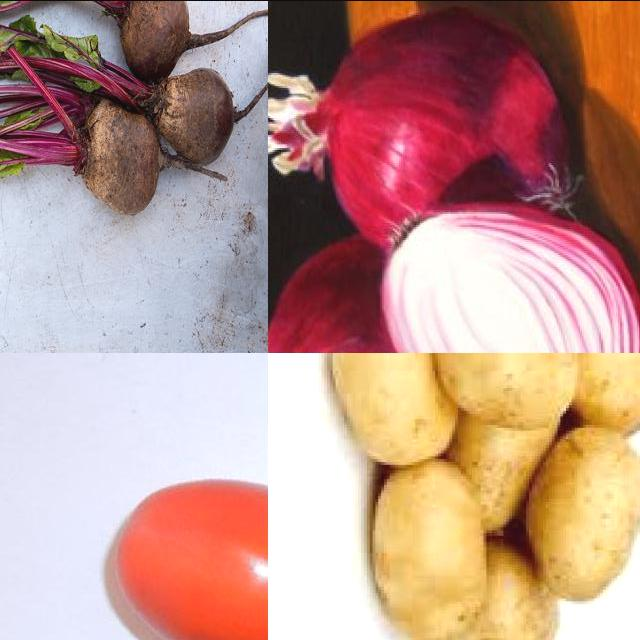beet: (84, 96, 160, 204), (163, 67, 239, 169), (116, 1, 192, 69)
onion: (269, 2, 587, 258), (376, 205, 640, 353), (269, 239, 487, 353)
potato: (369, 461, 489, 640), (526, 427, 640, 601), (331, 353, 457, 463), (451, 538, 561, 640), (436, 353, 578, 429), (572, 353, 640, 437)
tomato: (104, 469, 269, 640)
